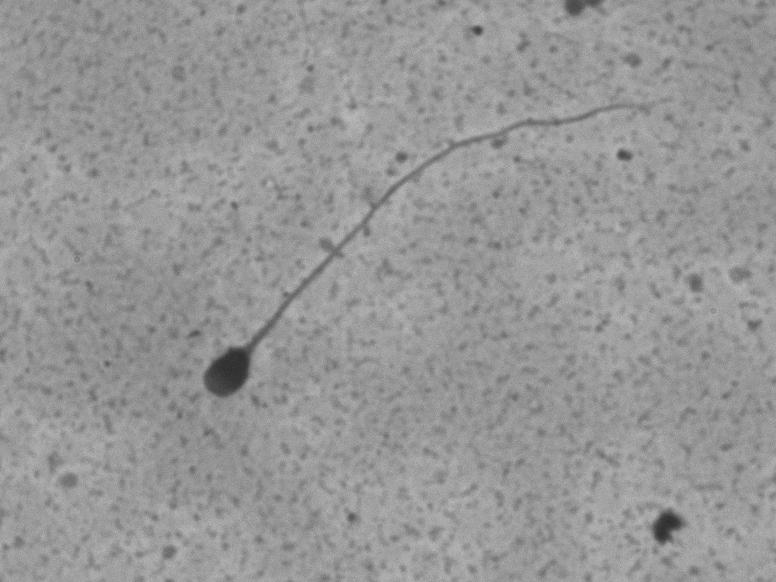Normal: (151, 88, 695, 420)
